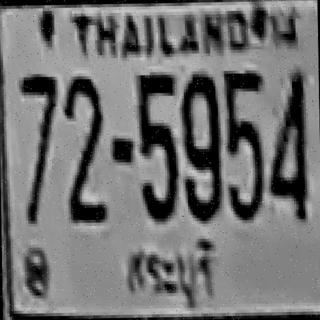N00: (179, 71, 220, 206), (179, 71, 219, 164)
N02: (62, 74, 102, 203)
N04: (266, 68, 308, 218)
N05: (135, 72, 178, 218), (223, 68, 264, 218)
N07: (18, 71, 58, 215), (18, 72, 58, 186), (18, 71, 58, 173), (18, 71, 58, 161)
N09: (179, 71, 220, 218)
P60: (115, 232, 220, 307)
